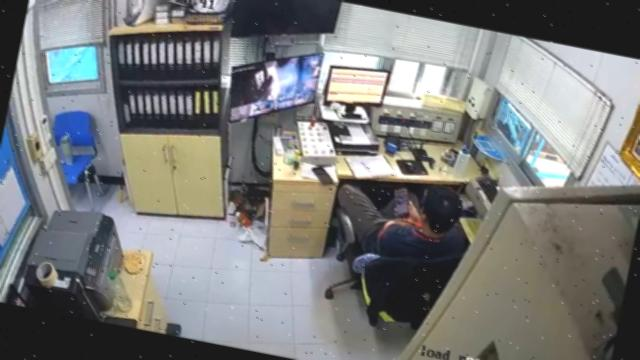Head: (417, 185, 468, 232)
People: (329, 166, 478, 262)
Phone: (393, 188, 412, 216), (310, 166, 335, 184)
